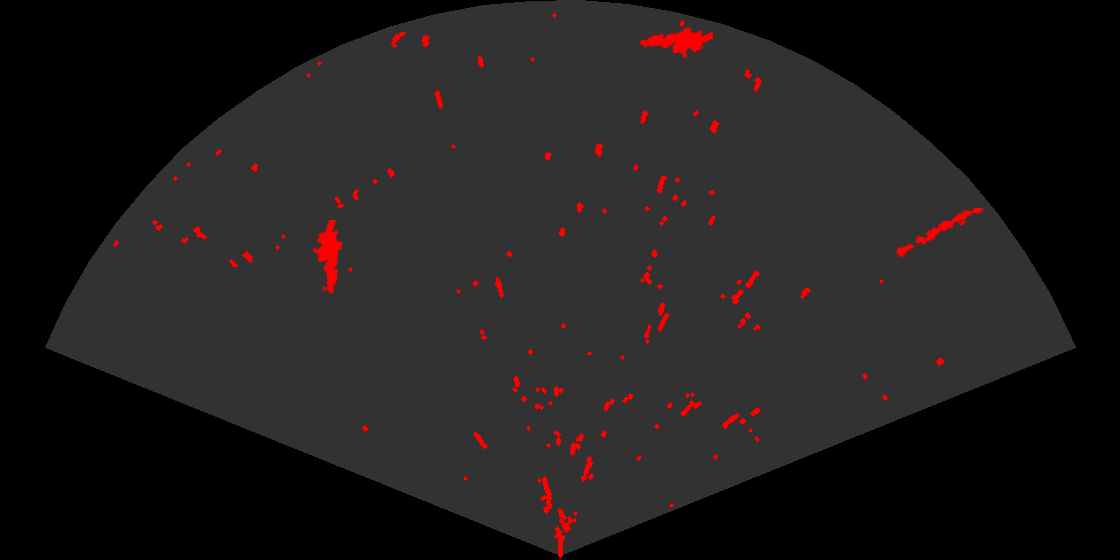chain: (895, 206, 985, 259)
frogman: (638, 25, 713, 60), (311, 220, 344, 295)
